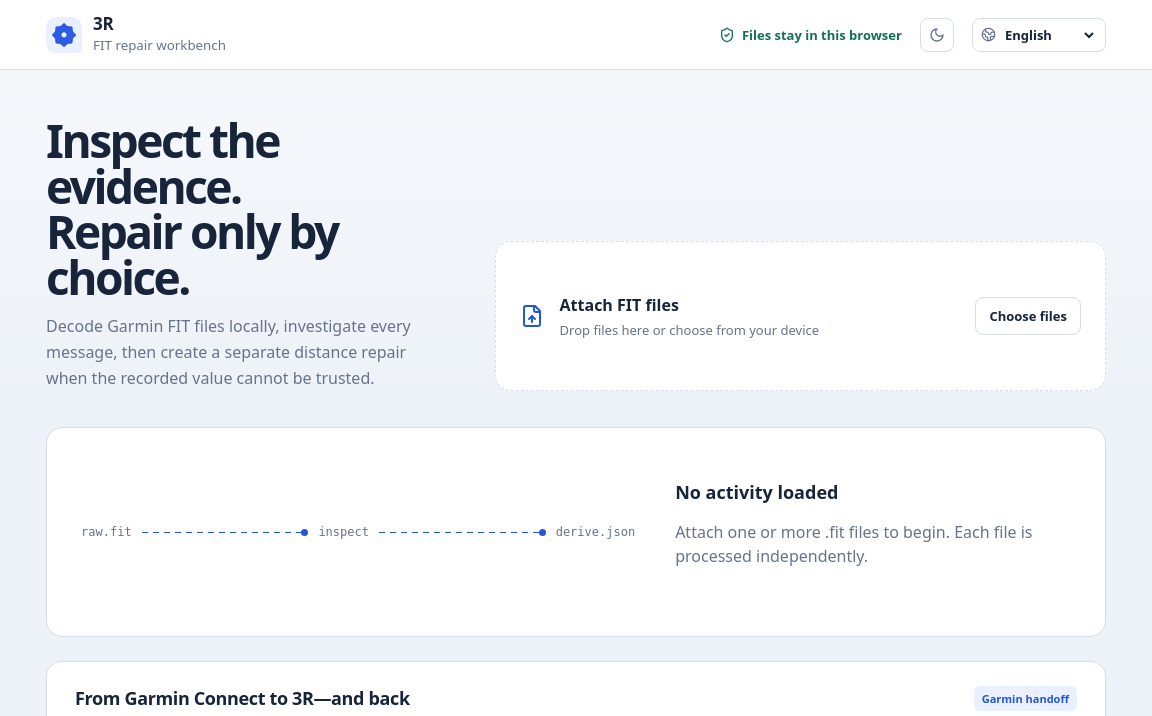
Scenario: complete local analysis and repair flow › switches the complete interface to Ukrainian and remembers the choice
Select "Українська" in the dropdown named "Language" at (1049, 34), box [1001,24,1097,44]
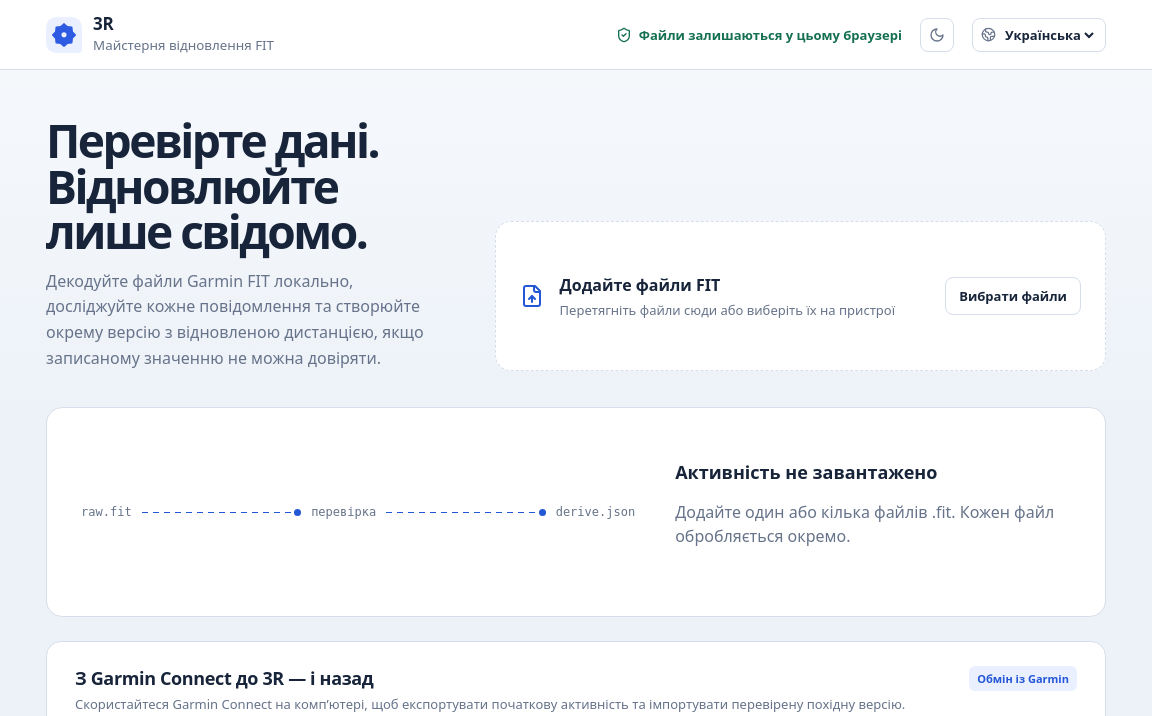
Check: the heading "Перевірте дані.Відновлюйте лише свідомо." is shown, box [46,109,378,263]
Check: the text "Файли залишаються у цьому браузері" is shown, box [616,26,902,44]
Check: the heading "З Garmin Connect до 3R — і назад" is shown, box [75,666,373,690]
